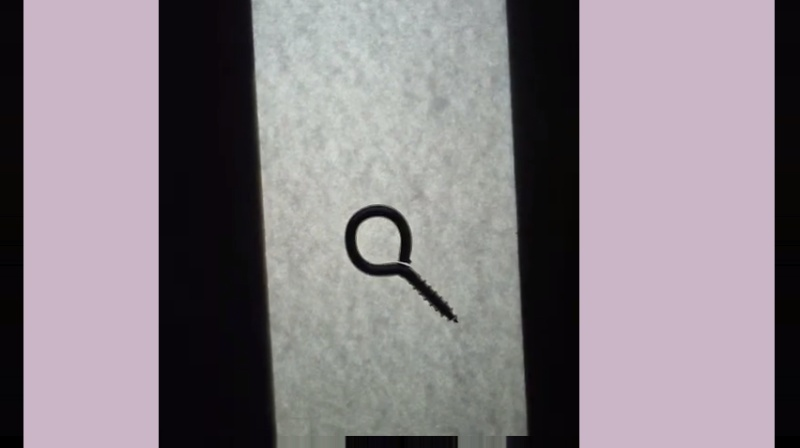O001: (342, 199, 466, 330)
